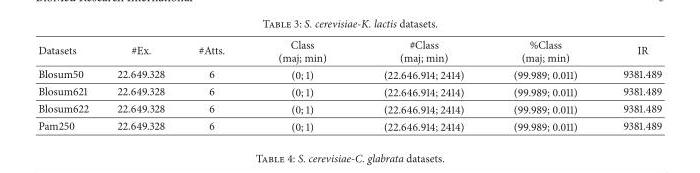table: (37, 36, 661, 133)
table column: (354, 36, 488, 133), (488, 36, 599, 133), (250, 36, 354, 133), (102, 36, 181, 133), (181, 36, 250, 133), (37, 36, 102, 133), (599, 36, 661, 133)
table column header: (37, 36, 661, 65)
table row: (37, 36, 661, 65), (37, 99, 661, 117), (37, 65, 661, 82), (37, 82, 661, 99), (37, 117, 661, 133)
